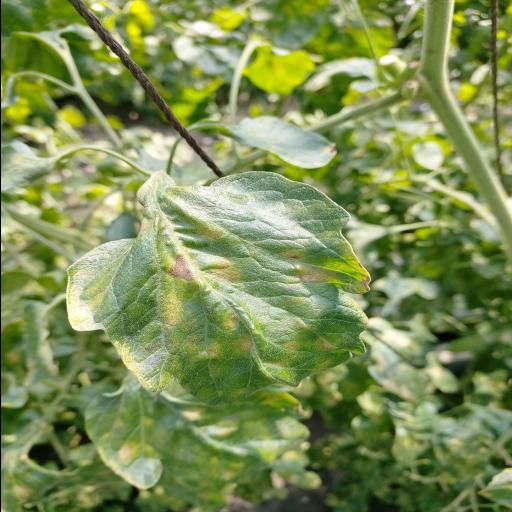disease_tomato: (62, 171, 372, 407)
